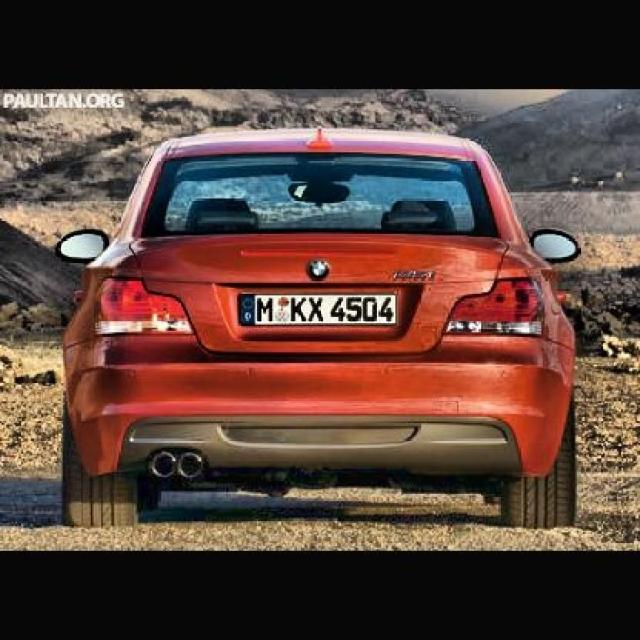red: (66, 121, 572, 502)
